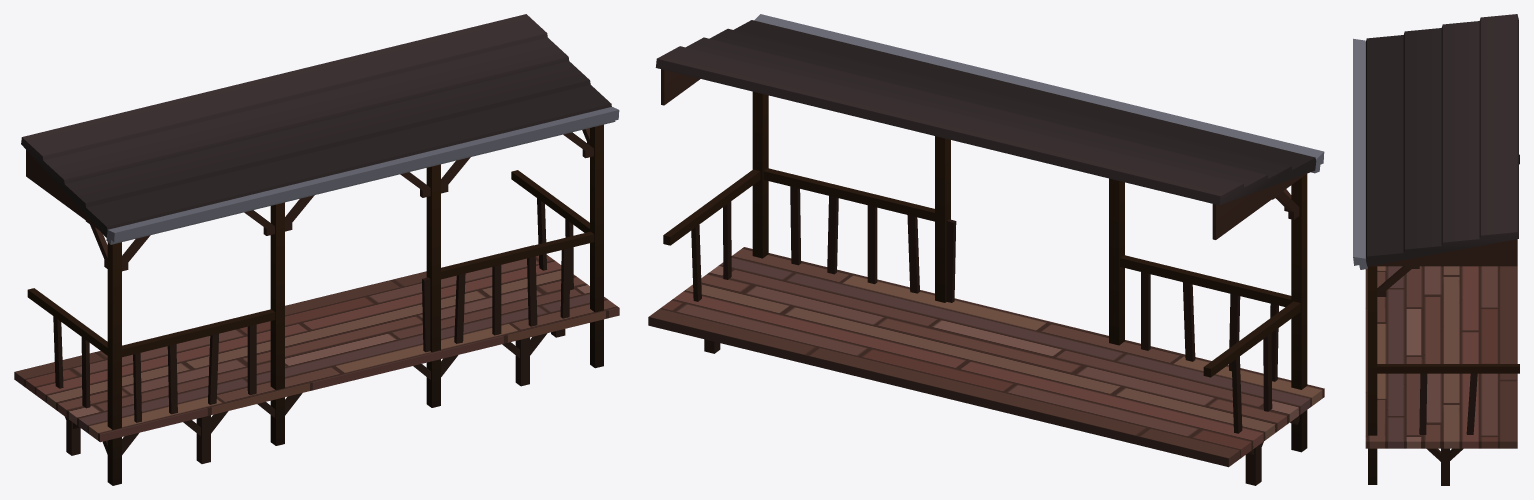
File: Deck 7M v03.glb
The picture shows the model from 3 angles, left to right: view 1: azimuth 30°, elevation 25°; view 2: azimuth 150°, elevation 25°; view 3: azimuth 270°, elevation 25°; orthographic projection. The views are drawn at different scales.
Parts seen in each view (by area): view 1: Deck 7M v03; view 2: Deck 7M v03; view 3: Deck 7M v03.
Boxes of the visible parts, left/top/right/bottom form: Deck 7M v03: left=14, top=14, right=619, bottom=485; Deck 7M v03: left=648, top=14, right=1324, bottom=485; Deck 7M v03: left=1353, top=14, right=1519, bottom=485.
Size of what is drawn, in the model's own units: 7 by 3.72 by 2.2.
2 materials, 2 textured.
